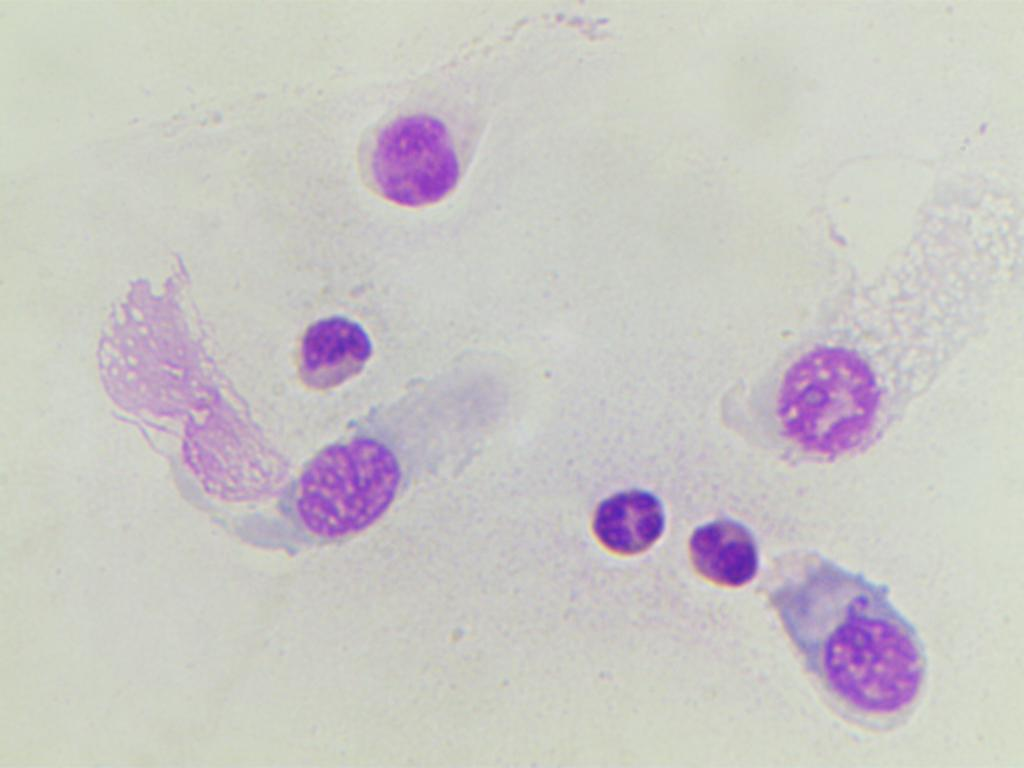epithelial: (353, 73, 519, 209), (810, 588, 927, 720), (771, 344, 901, 454), (287, 436, 406, 549)
neutrophil: (572, 482, 678, 569), (282, 307, 387, 392), (681, 496, 761, 588)
